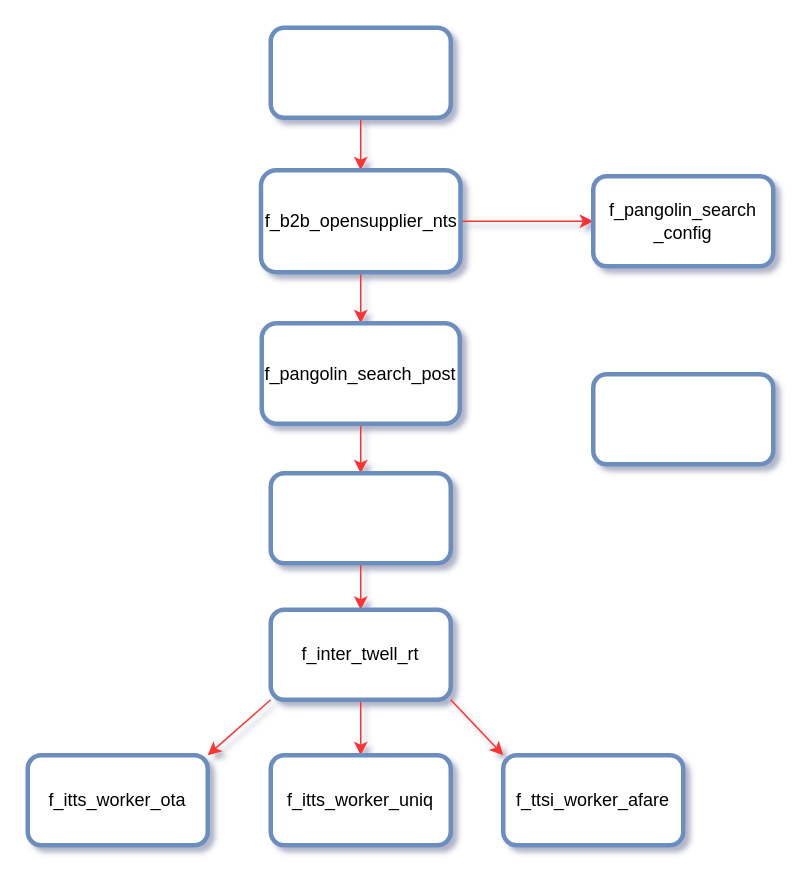
This 810x882 diagram has some shape labels left out. Each missing label, with the box of its shape:
f_inter_twell_rt_router: (268, 470, 452, 565)
f_pangolin_search _compare: (590, 371, 775, 466)
inter_site: (268, 25, 452, 119)
